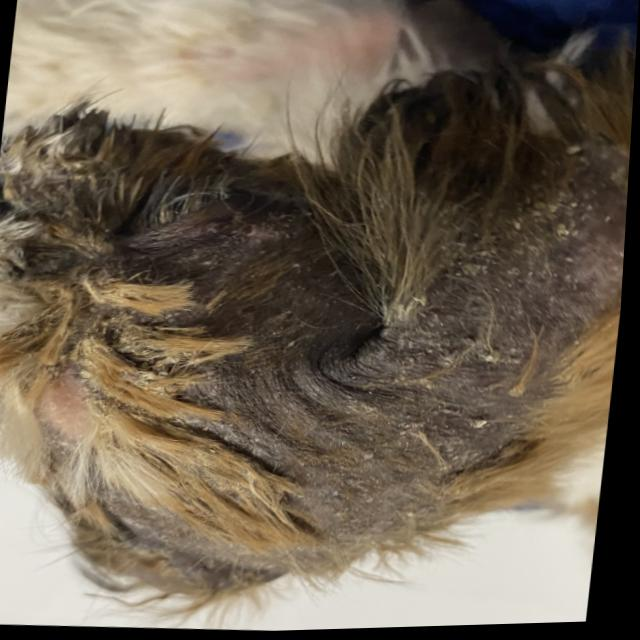demodicosis: (220, 342, 514, 503), (151, 184, 354, 325), (478, 133, 606, 347)
